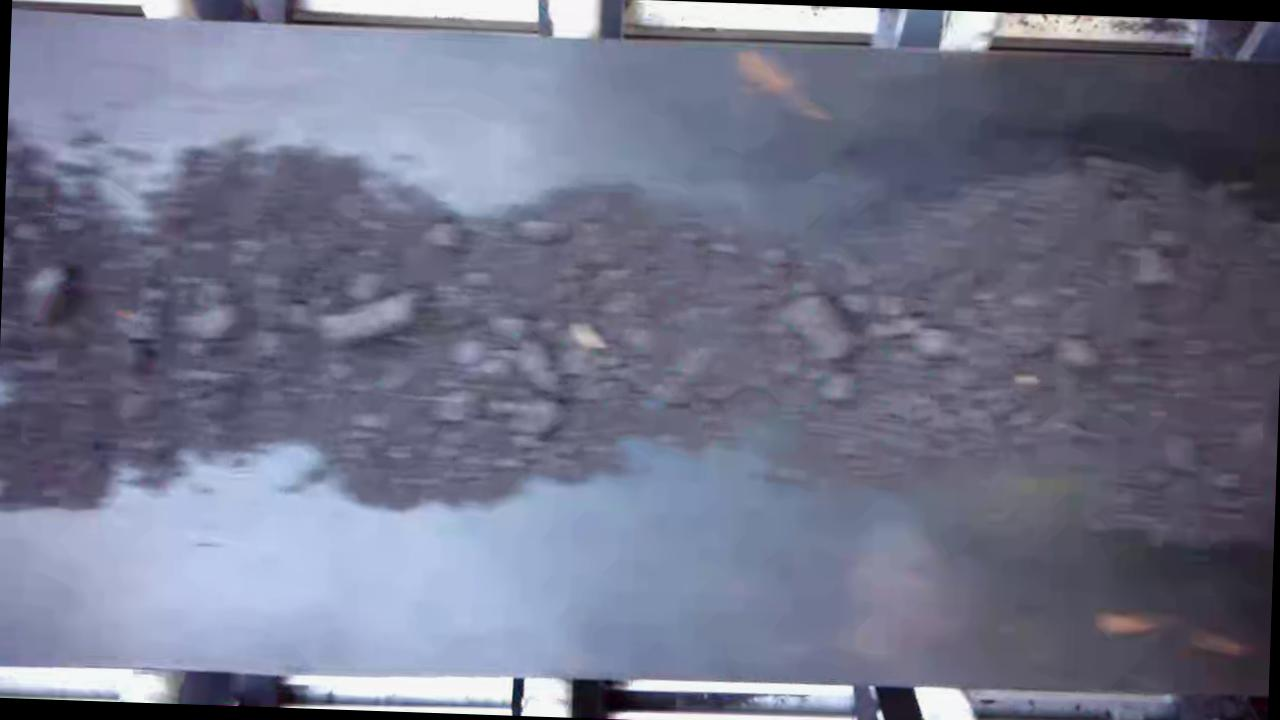conveyor: (0, 28, 1280, 688)
